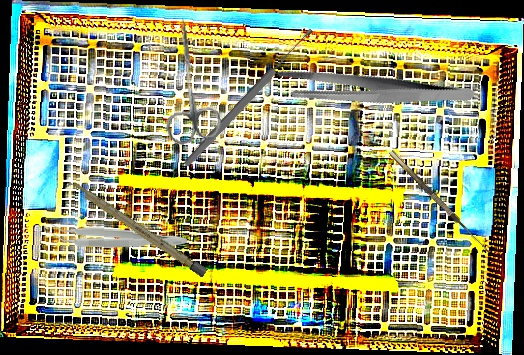Dressing Forceps: (272, 27, 476, 153)
Hook Surgical: (388, 144, 497, 256)
Iris Scissors: (152, 13, 225, 147)
Scalpel Handle: (67, 178, 208, 278)
Surgical Spoon: (182, 26, 316, 169)
Tissue Forceps: (49, 222, 188, 251)
